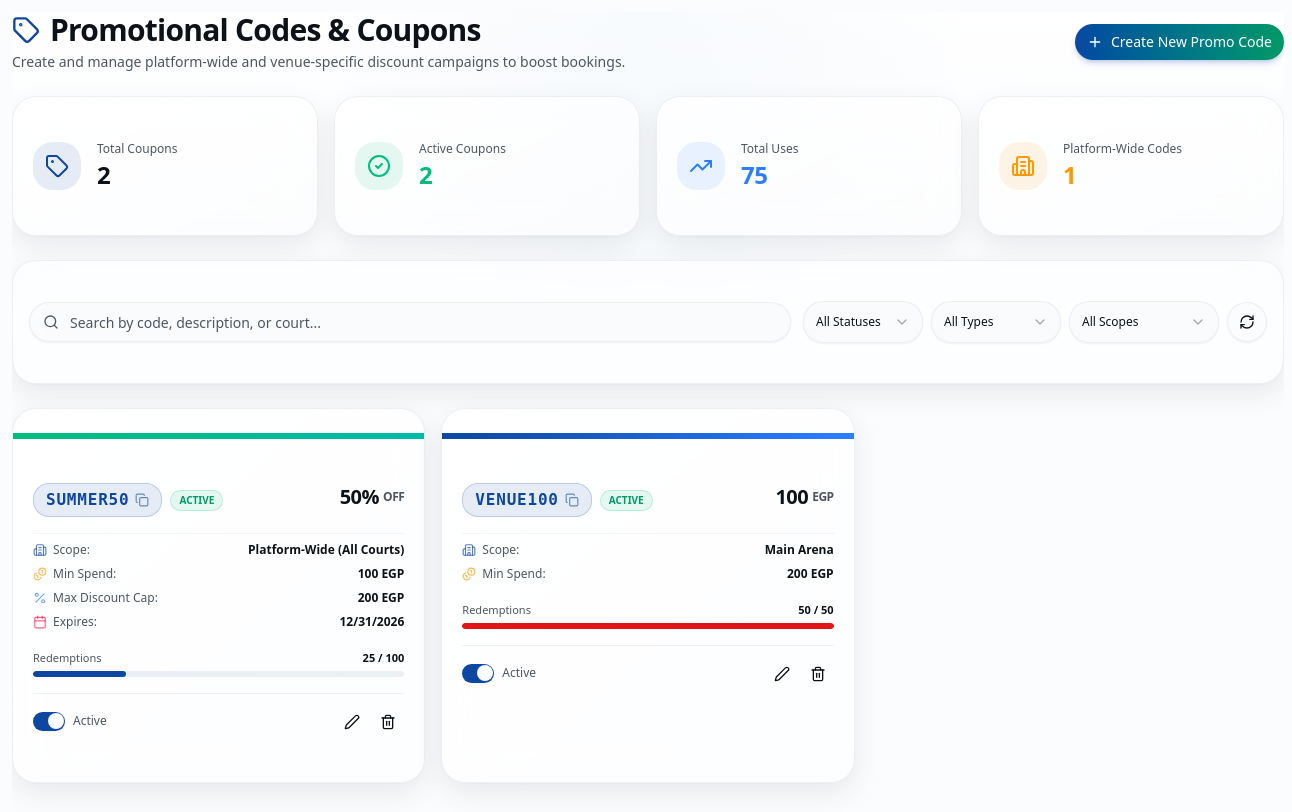
Test case: CouponsPage › filters coupons by search query
The width and height of the screenshot is (1292, 812).
Expected: the text "SUMMER50" is shown, [46,488,130,512]
Expected: the text "VENUE100" is shown, [475,488,559,512]
Type "SUMMER" into the field with placeholder "Search by code, description, or court..." at (410, 322), box [29,302,791,342]
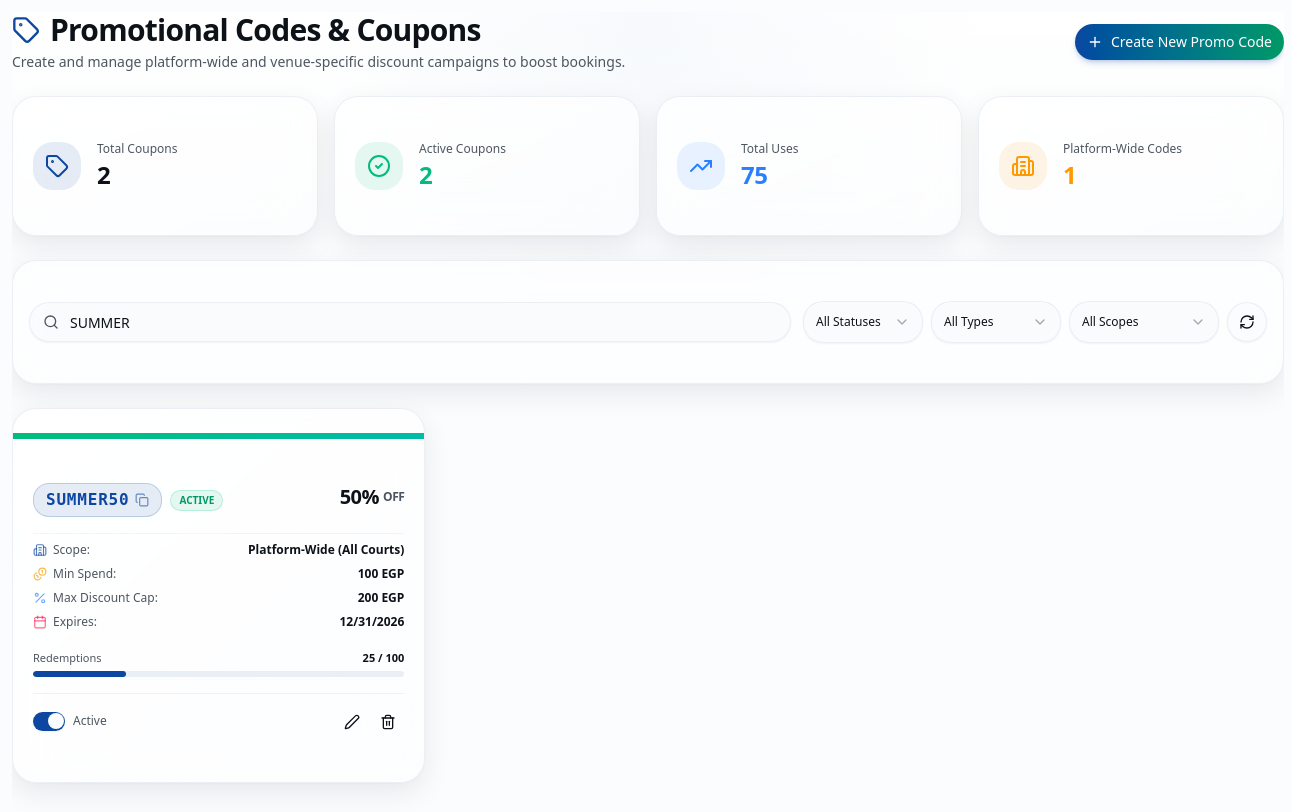
Expected: the text "SUMMER50" is shown, [46,488,130,512]
Result: the button "VENUE100" is gone
